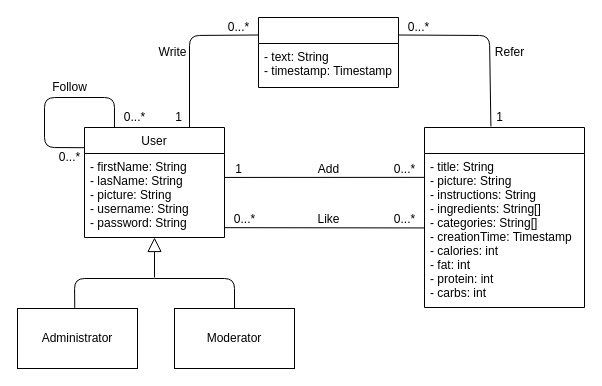
Some shapes in this 602 by 386 pixel diagram are drawn without their labels. The shapes that lost their labels are listed below. From the top down, each one's box as (x1, y1, x2, y2) in pixels, then its label:
(258, 16, 398, 88): Comment
(424, 126, 584, 308): Recipe
